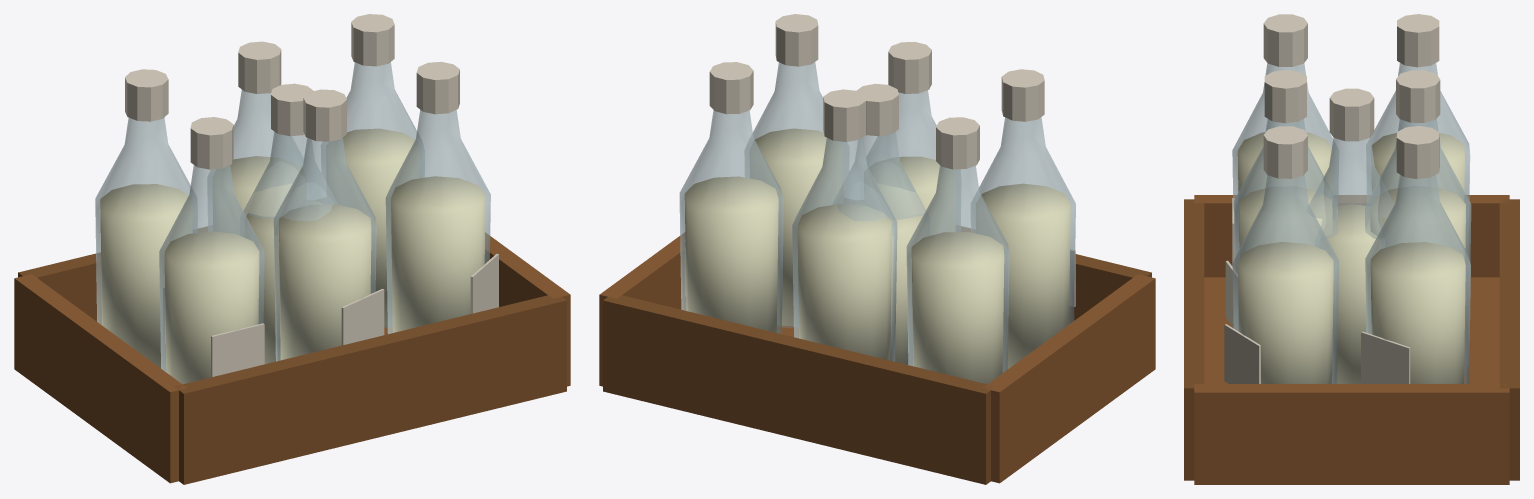
Rendered from Proc_Vinegar.fbx.
3 renders of one model, left to right at view 1: azimuth 30°, elevation 25°; view 2: azimuth 150°, elevation 25°; view 3: azimuth 270°, elevation 25°, orthographic.
Parts seen in each view (by area): view 1: Proc_Vinegar__Stack, Proc_Vinegar; view 2: Proc_Vinegar__Stack, Proc_Vinegar; view 3: Proc_Vinegar__Stack, Proc_Vinegar.
Boxes of the visible parts, bbox=[...] form: Proc_Vinegar__Stack: bbox=[14, 14, 570, 484]; Proc_Vinegar: bbox=[240, 83, 336, 364]; Proc_Vinegar__Stack: bbox=[599, 14, 1155, 484]; Proc_Vinegar: bbox=[832, 83, 929, 365]; Proc_Vinegar__Stack: bbox=[1184, 14, 1519, 484]; Proc_Vinegar: bbox=[1309, 88, 1394, 383].
Size of the model in its own units: 0.184 by 0.133 by 0.132.
